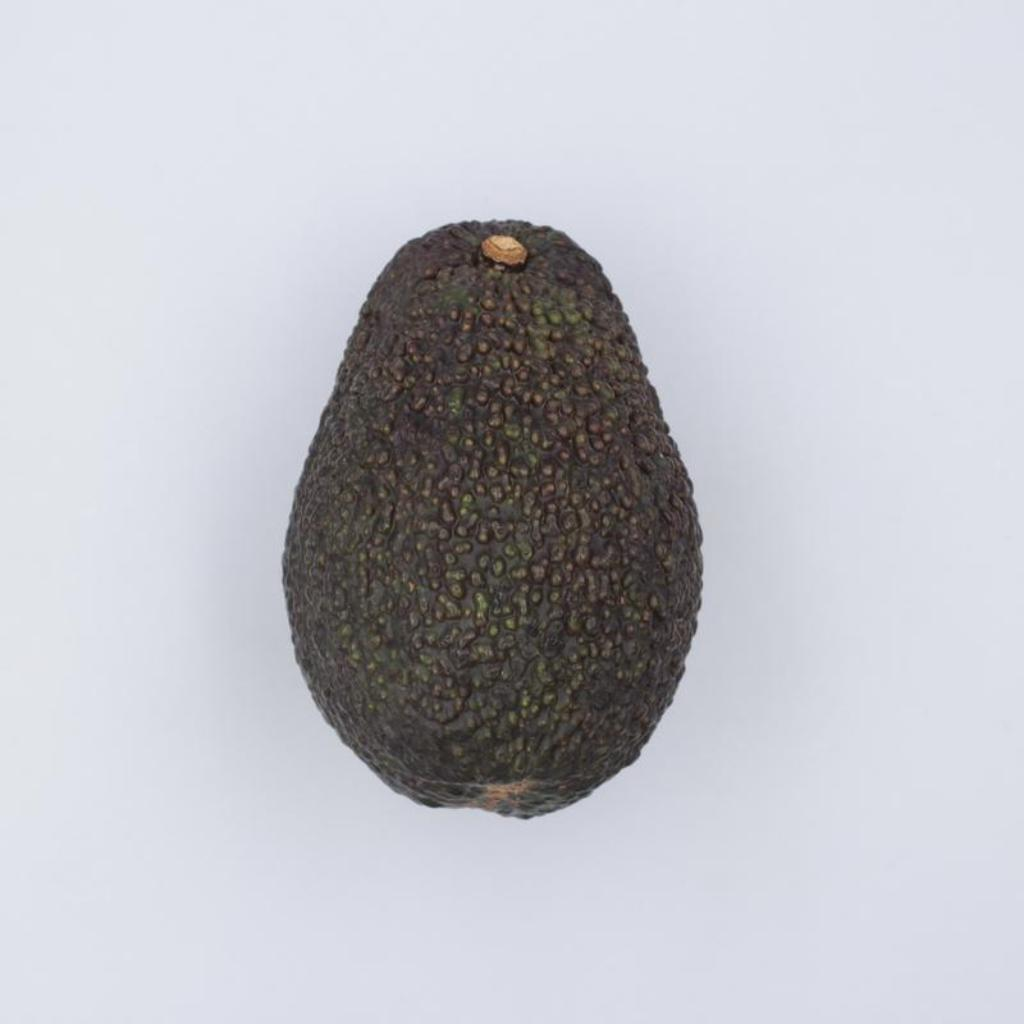antracnosis_fruto: (283, 220, 701, 817)
